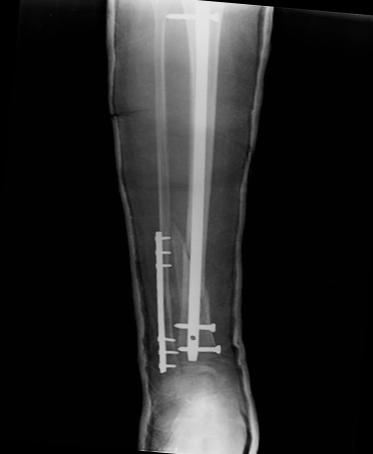fractured: (171, 216, 209, 314), (162, 270, 171, 313)
